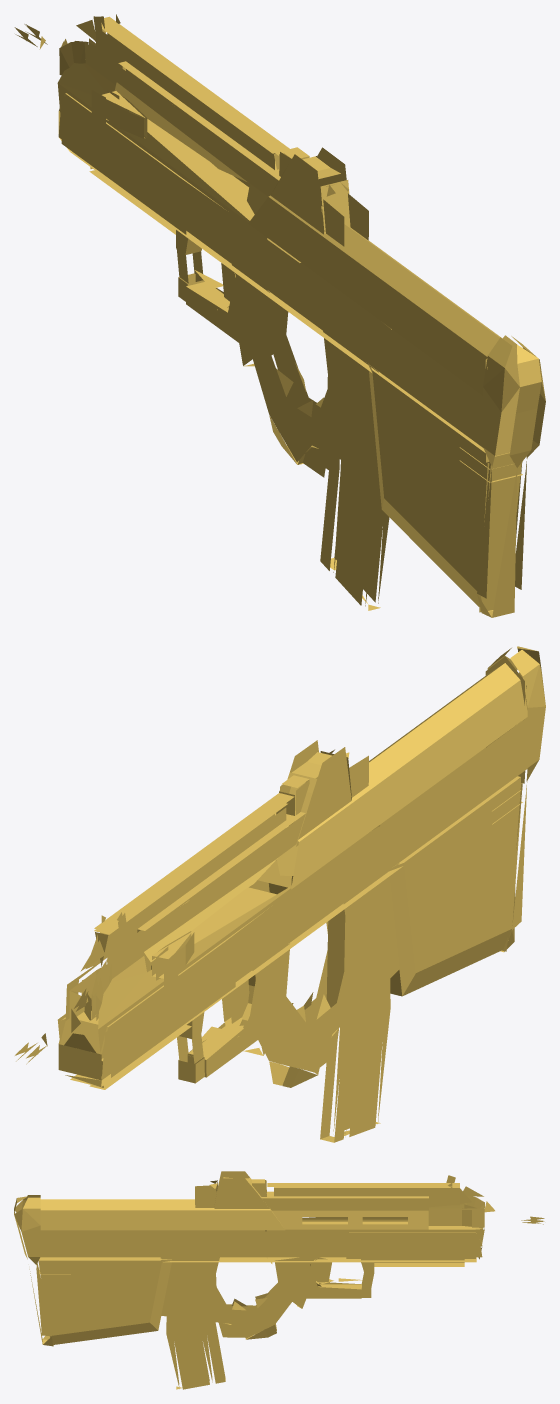
The model's file is charm_mst_fusil_6.glb.
3 renders of one model, top to bottom at view 1: azimuth 30°, elevation 25°; view 2: azimuth 150°, elevation 25°; view 3: azimuth 270°, elevation 25°, orthographic. The views are drawn at different scales.
Parts seen in each view (by area): view 1: p0_paint; view 2: p0_paint; view 3: p0_paint.
Part boxes in pixels (x1=…): p0_paint: x1=14, y1=14, x2=545, y2=617; p0_paint: x1=15, y1=646, x2=545, y2=1142; p0_paint: x1=14, y1=1171, x2=544, y2=1389.
Size of the model in its own units: 0.0472 by 0.3044 by 0.6882.
